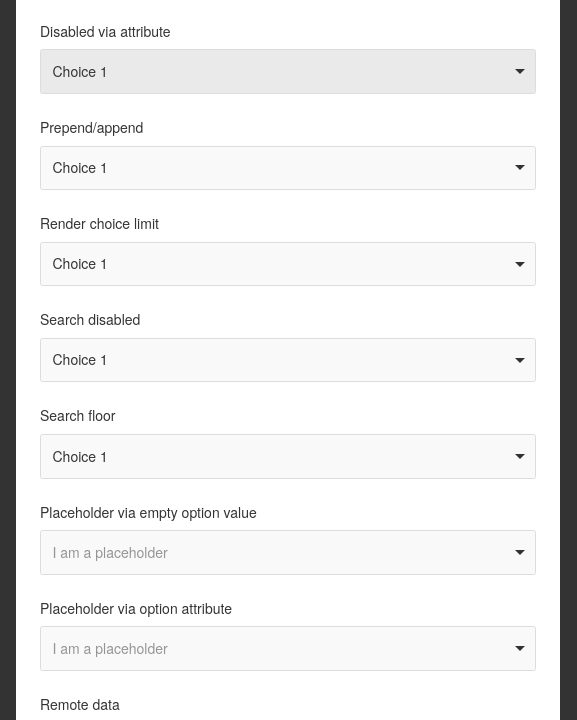
Test case: Choices - select one › scenarios › search disabled › allows selecting choices from dropdown
(page scrolled)
Click the list with class "choices" showing "Choice 1".
click(288, 361)  # box [40,338,536,383]
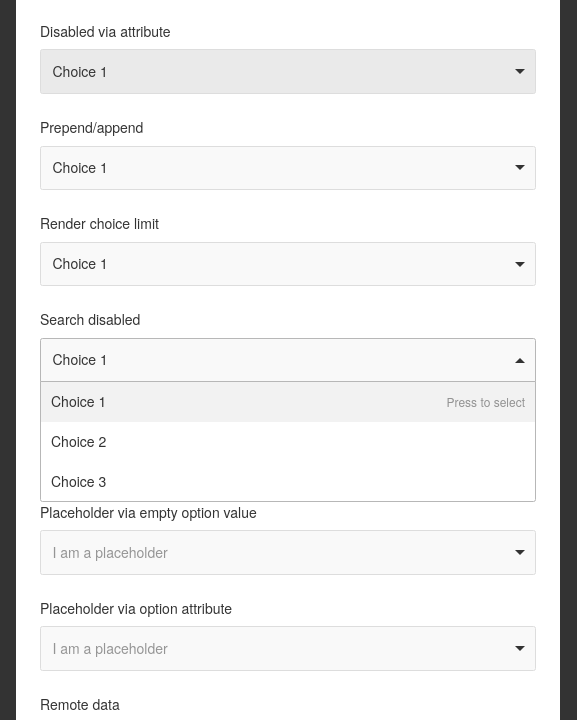
Click the option "Choice 3".
click(79, 481)  # box [51,471,106,491]
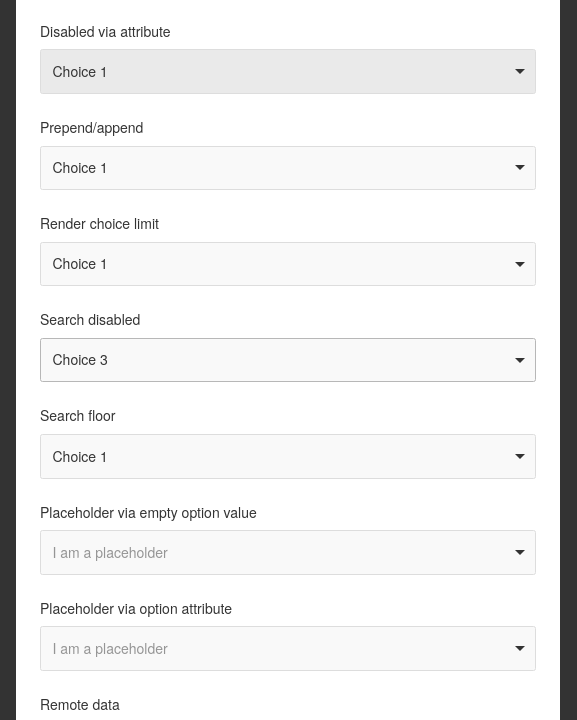
Check: the text with class "choices__item" reads "Choice 3", box [53,349,108,369]
